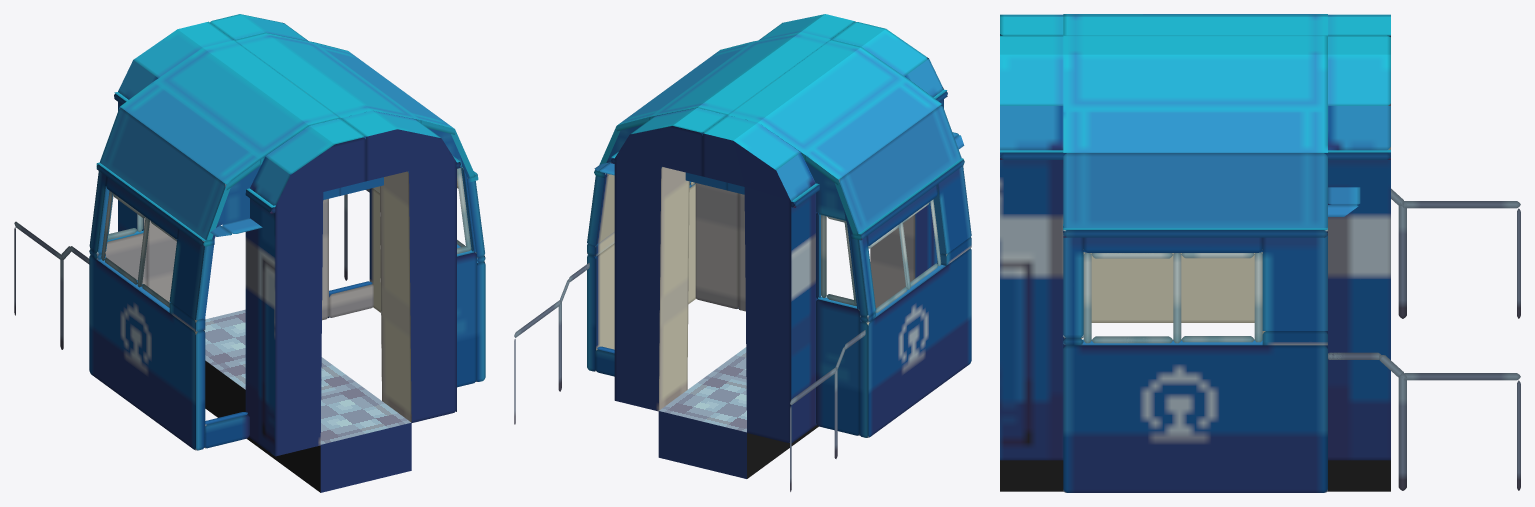
Rendered from df5_head.obj.
The picture shows the model from 3 angles, left to right: view 1: azimuth 30°, elevation 25°; view 2: azimuth 150°, elevation 25°; view 3: azimuth 270°, elevation 25°; orthographic projection. The views are drawn at different scales.
Visible parts, largest first — view 1: cube_selection; view 2: cube_selection; view 3: cube_selection.
Part boxes in pixels (bbox=[...]): cube_selection: bbox=[14, 14, 485, 492]; cube_selection: bbox=[514, 14, 971, 491]; cube_selection: bbox=[1000, 14, 1520, 492].
Size of the model in its own units: 3.19 by 3.63 by 4.
